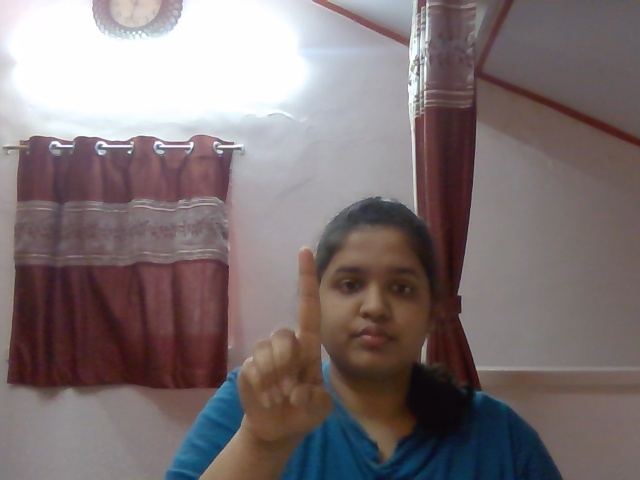d: (232, 237, 335, 441)
